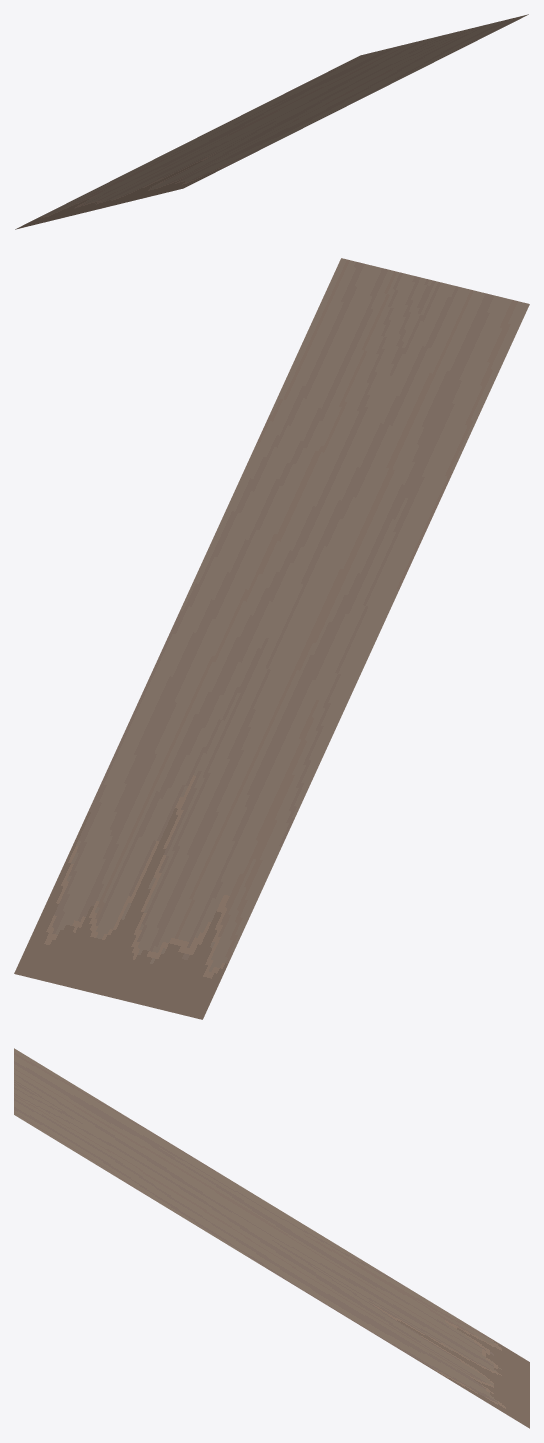
File: kd_stage_135b75_4_51_bounded_portal_piece_9.glb
3 views of the same model, one above another, from view 1: azimuth 30°, elevation 25°; view 2: azimuth 150°, elevation 25°; view 3: azimuth 270°, elevation 25° (orthographic). The views are drawn at different scales.
Visible parts, largest first — view 1: kd_stage_135b75_4_51_bounded_portal_piece_9; view 2: kd_stage_135b75_4_51_bounded_portal_piece_9; view 3: kd_stage_135b75_4_51_bounded_portal_piece_9.
Boxes of the visible parts, x1=… form: kd_stage_135b75_4_51_bounded_portal_piece_9: x1=15, y1=14, x2=528, y2=229; kd_stage_135b75_4_51_bounded_portal_piece_9: x1=14, y1=258, x2=529, y2=1019; kd_stage_135b75_4_51_bounded_portal_piece_9: x1=14, y1=1048, x2=529, y2=1428.
Size of the model in its own units: 0.2308 by 0.4535 by 0.6539.
1 material, 1 textured.
